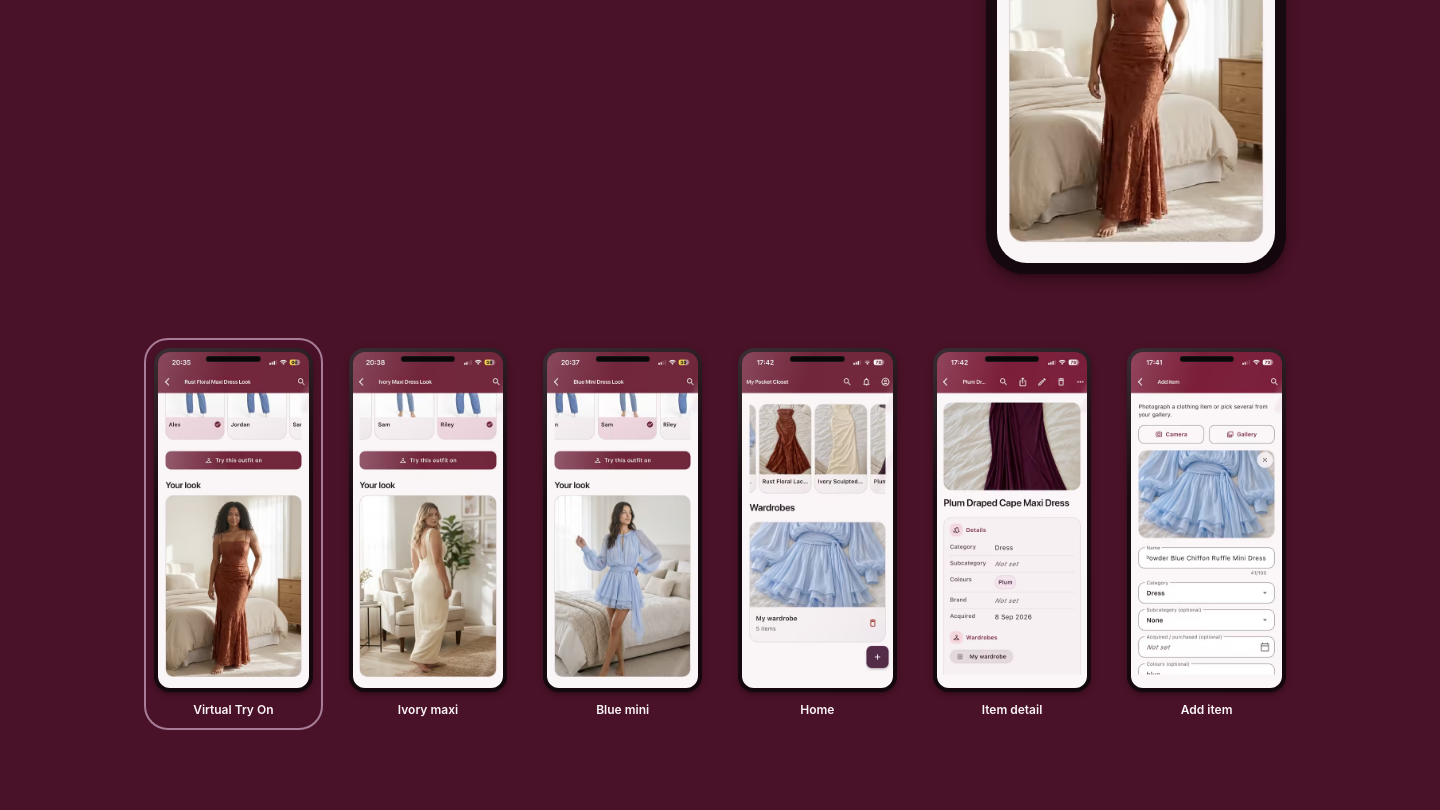
Test case: ScreenshotShowcase › selects a slot from the labeled gallery
The width and height of the screenshot is (1440, 810).
(page scrolled)
Click the button with aria-label "Add item screenshot". click: (1207, 534)
box: x1=1117 y1=338 x2=1296 y2=730
(page scrolled)
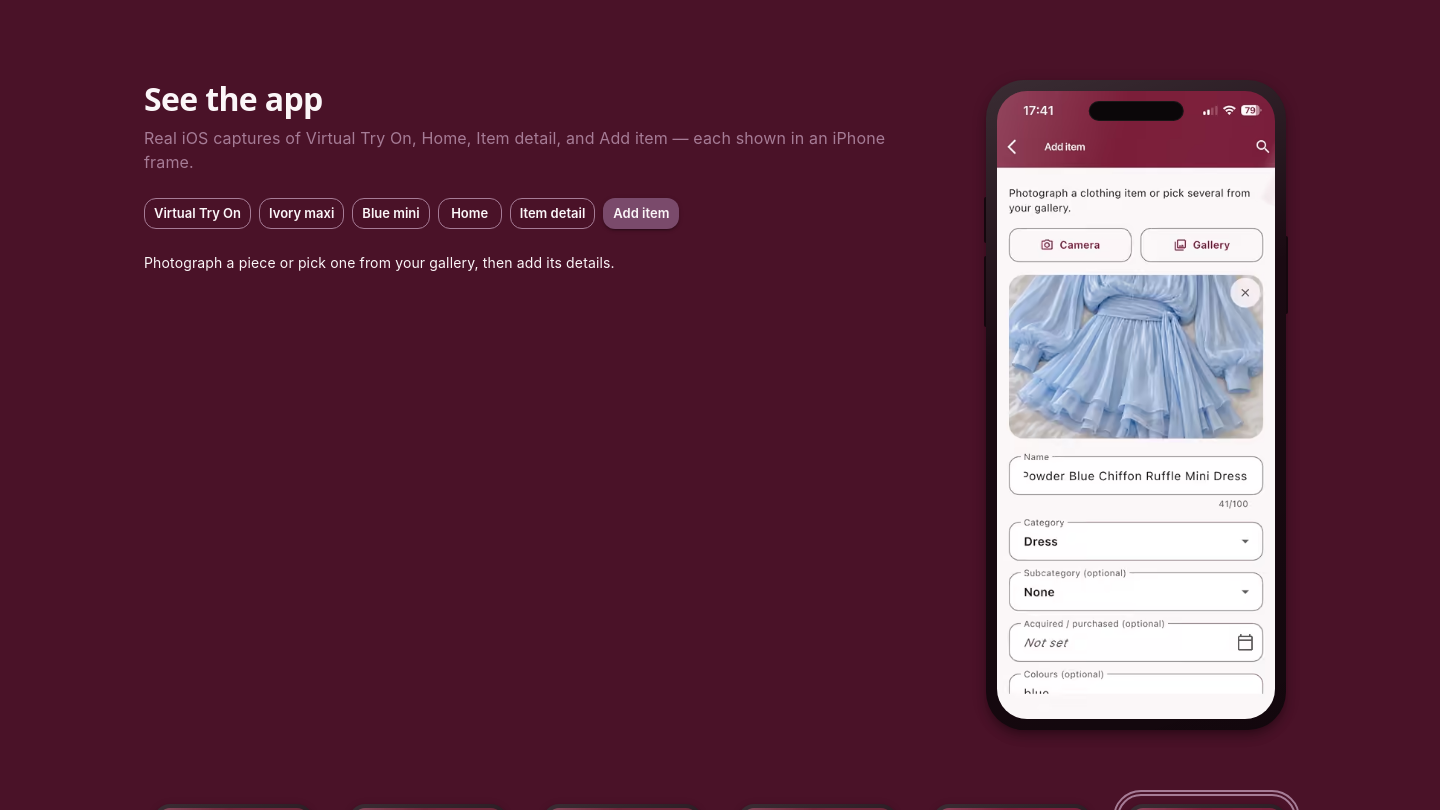
Check: the picture named "Pocket Closet add item screen with a powder blue chiffon mini dress photo and clothing details form" is shown, box x1=997 y1=91 x2=1275 y2=719
